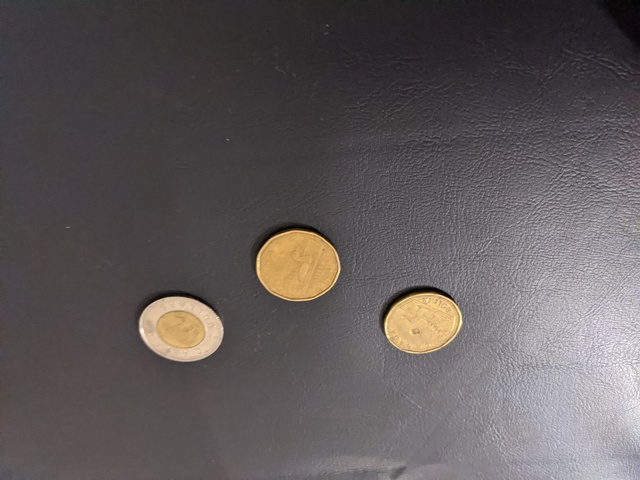loonie: (364, 268, 467, 361), (245, 230, 343, 308)
twonie: (128, 286, 229, 365)
